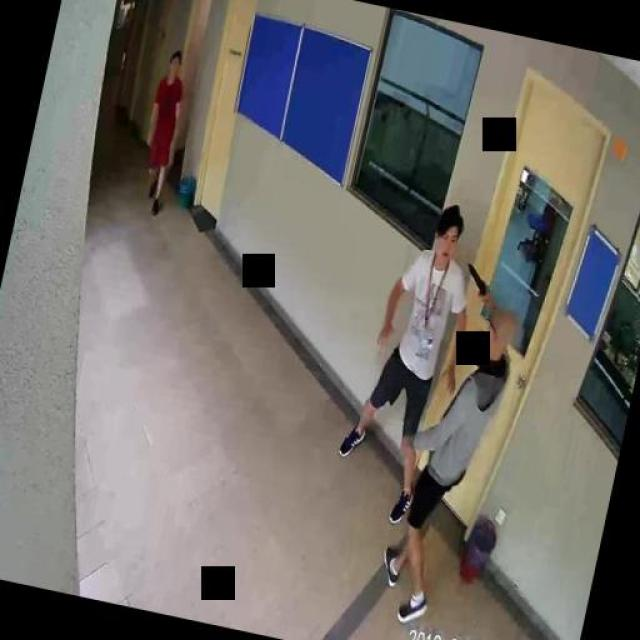gun: (460, 260, 492, 299)
